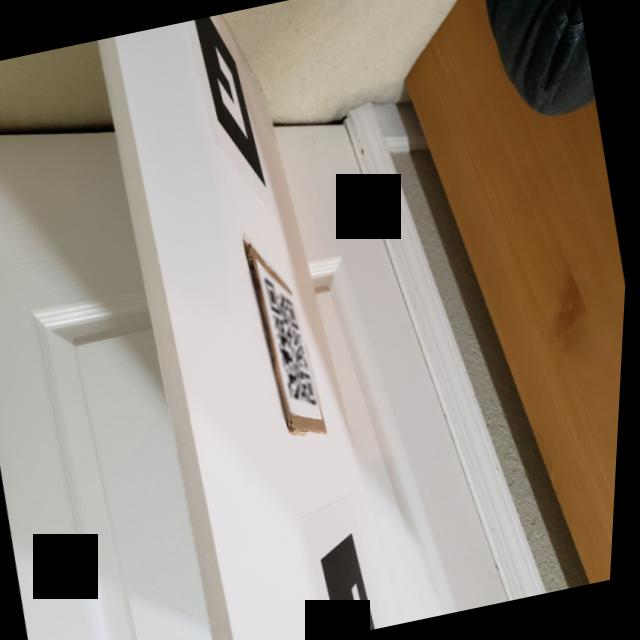QR_CODE: (238, 259, 334, 421)
